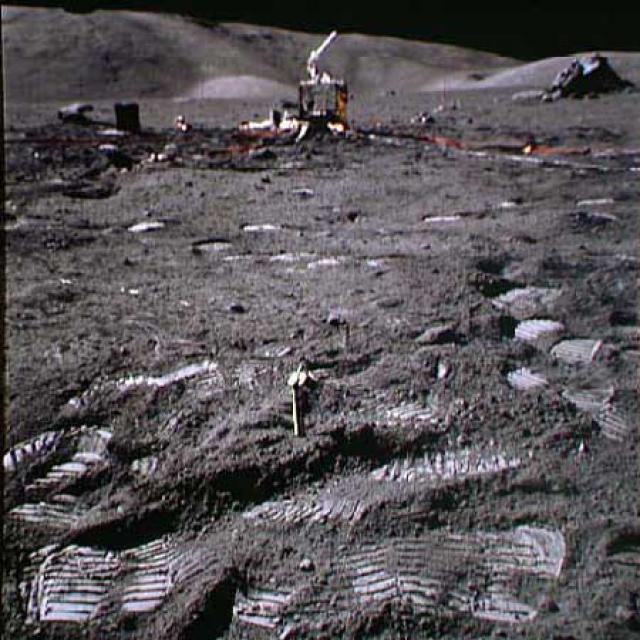artifact: (257, 22, 377, 151), (271, 357, 329, 439)
rock: (538, 52, 639, 105)
